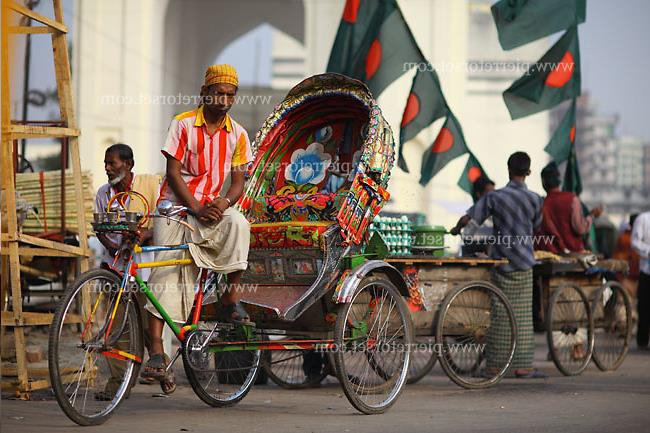Rickshaw: (52, 59, 406, 404)
